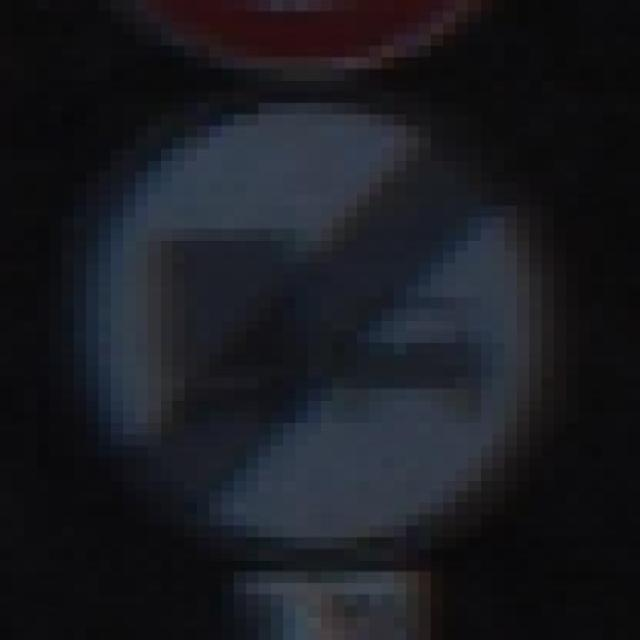Overtaking by trucks is prohibited: (49, 80, 591, 606)
